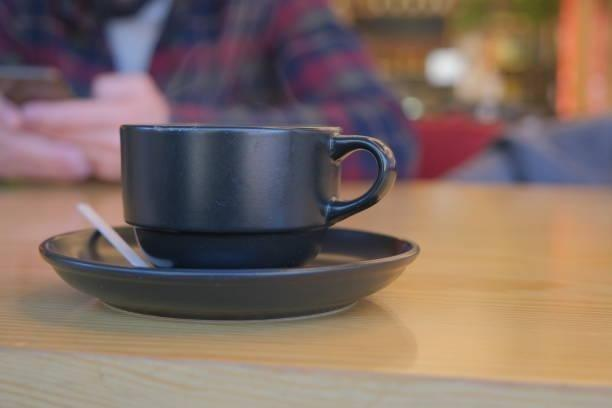cup-handle: (118, 121, 396, 270)
